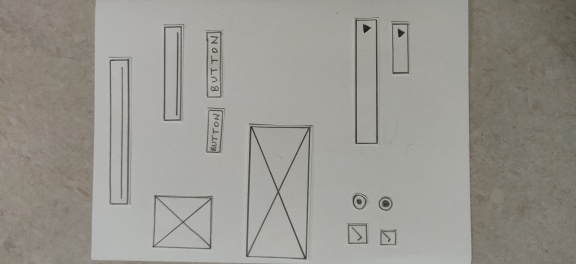button: (203, 28, 225, 100), (205, 105, 225, 156)
checkbox: (345, 221, 369, 246), (378, 228, 398, 248)
dropdown: (352, 14, 380, 148), (389, 18, 411, 77)
img: (245, 122, 312, 262), (151, 192, 214, 253)
radio: (351, 192, 368, 211), (376, 195, 395, 212)
text: (106, 55, 132, 207), (161, 21, 184, 124)
